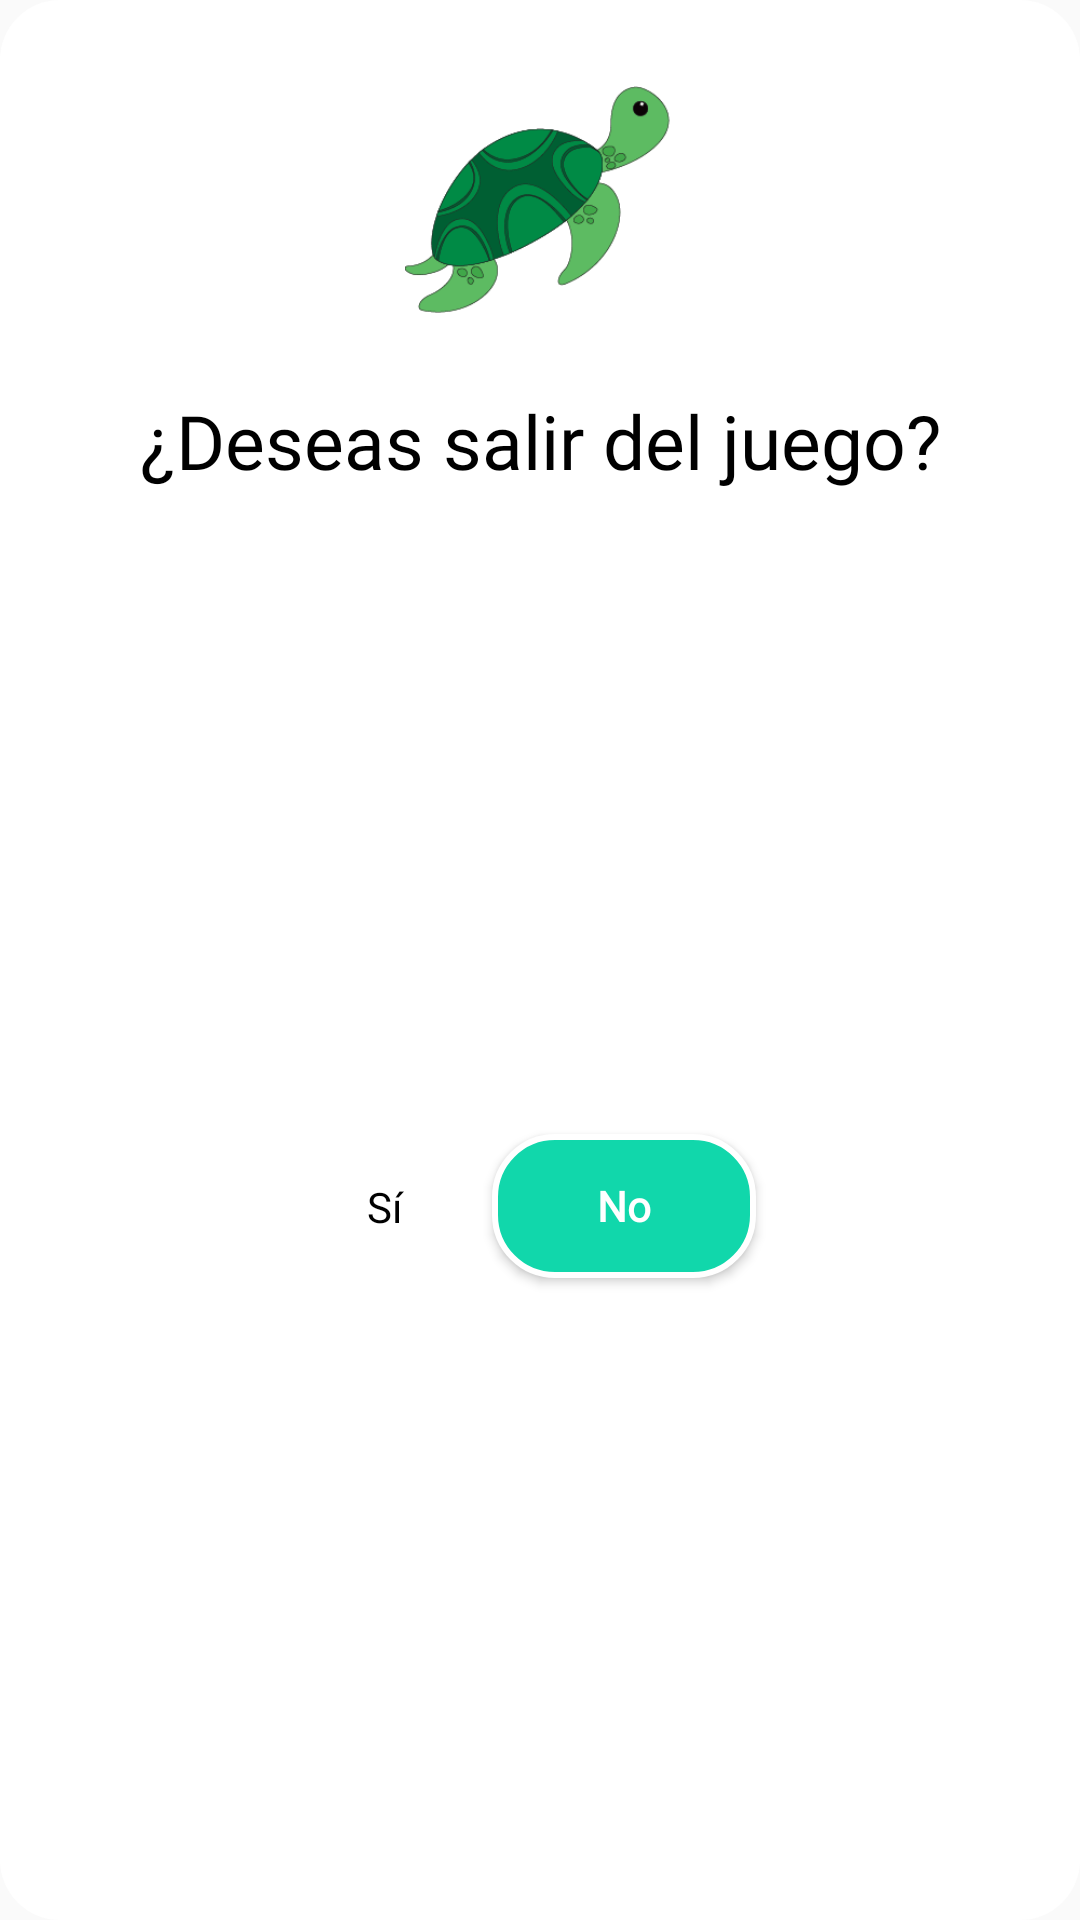

Icons on this 1080w x 1920h Android screen, each with the point to tap as [x,y]:
tortuguita: [537,199]
